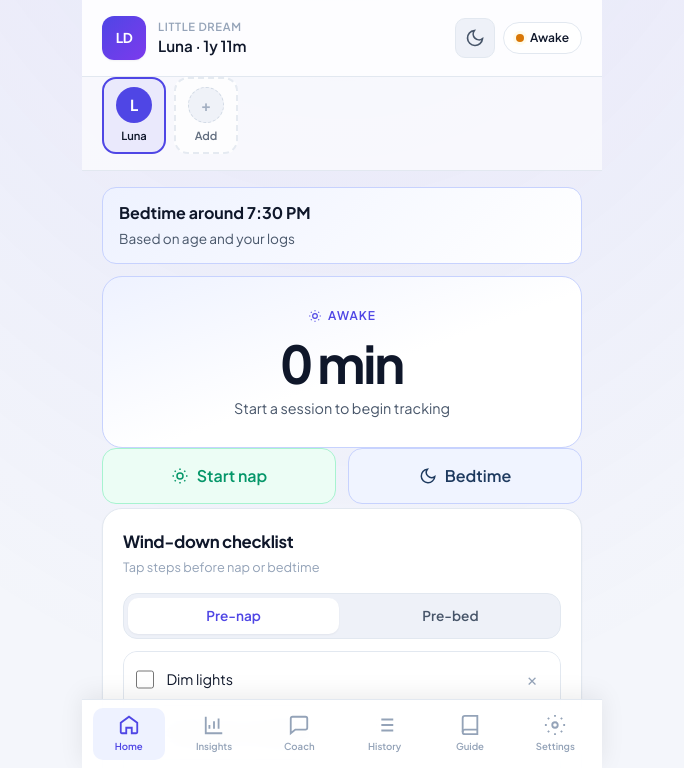
App › navigates to settings
Click the button "Settings".
click(555, 734)  # box [519, 708, 591, 760]
(page scrolled)
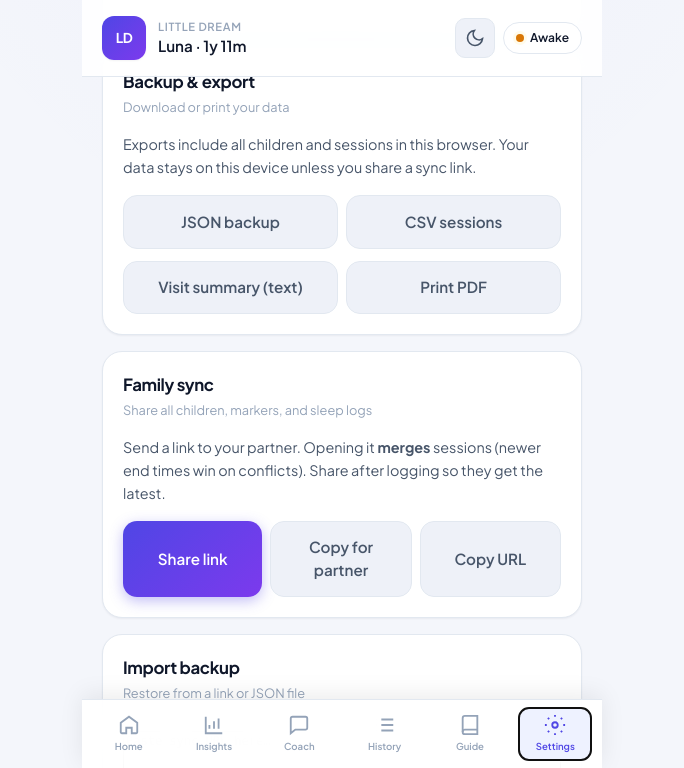
Expected: the heading "Family sync" is shown, [123, 374, 214, 395]
